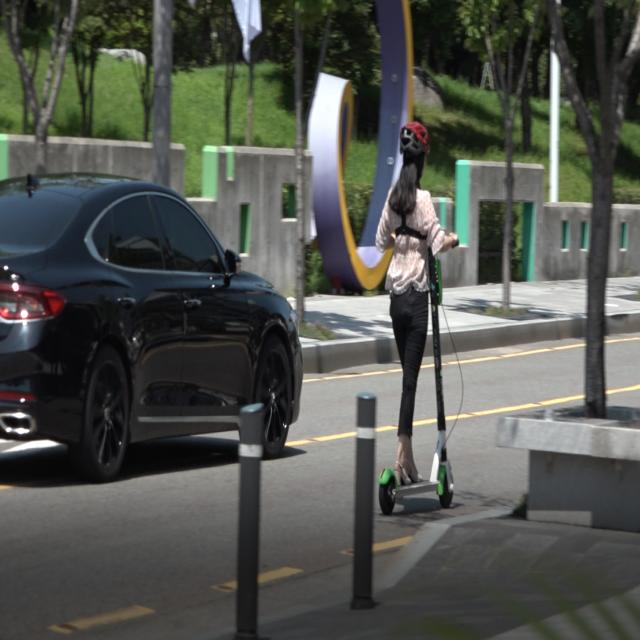helmet: (372, 117, 466, 517)
